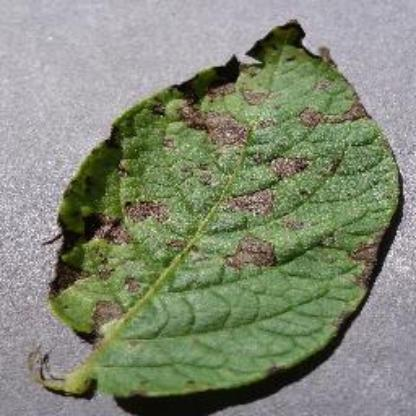Early-Blight: (36, 12, 404, 406)
